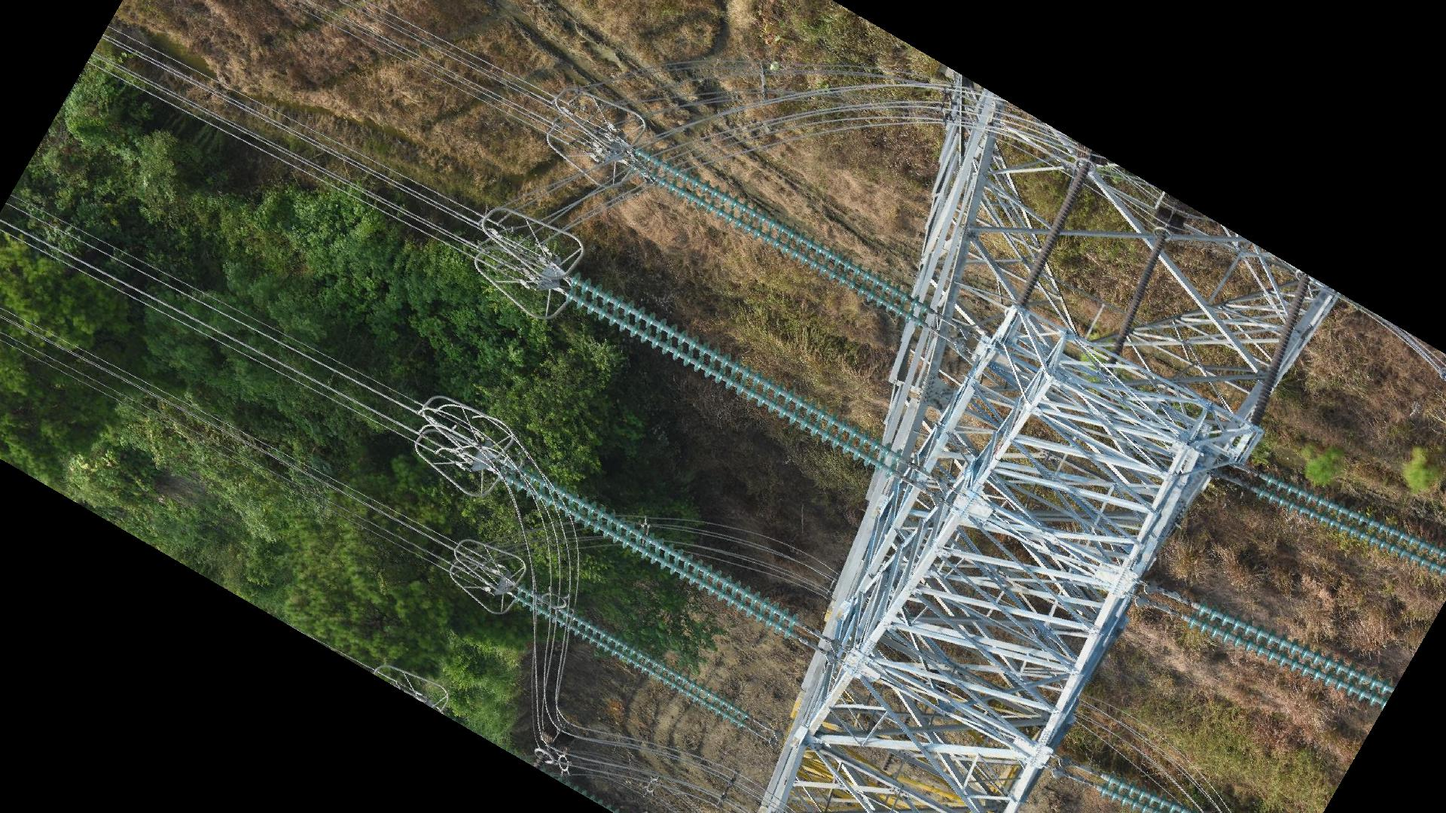insulator: (564, 270, 907, 482), (629, 145, 934, 330), (499, 458, 802, 641), (509, 580, 755, 733), (1185, 599, 1394, 711), (1255, 472, 1446, 577), (1013, 161, 1093, 310), (1249, 273, 1311, 427), (1108, 229, 1170, 357), (1100, 769, 1197, 813), (1071, 591, 1072, 592)
